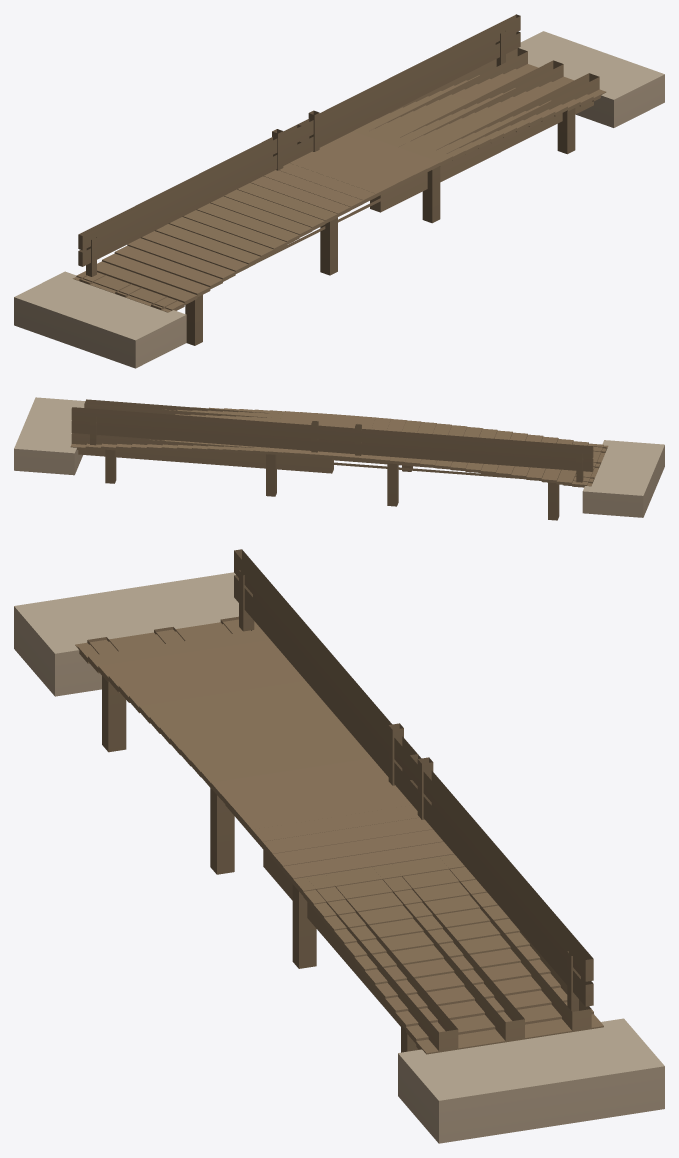
The model's file is uruk_bridge_wood.glb.
3 renders of one model, top to bottom at view 1: azimuth 30°, elevation 25°; view 2: azimuth 150°, elevation 25°; view 3: azimuth 270°, elevation 25°, orthographic. The views are drawn at different scales.
Parts seen in each view (by area): view 1: uruk_bridge_wood; view 2: uruk_bridge_wood; view 3: uruk_bridge_wood.
Part boxes in pixels (left/top/right/bottom): uruk_bridge_wood: left=14, top=14, right=664, bottom=368; uruk_bridge_wood: left=14, top=397, right=664, bottom=520; uruk_bridge_wood: left=14, top=549, right=664, bottom=1143.
Bounding box in the file's own units: 14.59 × 1.94 × 7.58.
